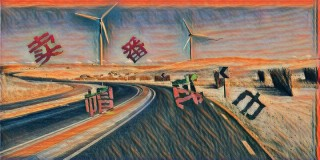卖: (20, 31, 67, 73)
巾: (225, 84, 272, 123)
帽: (78, 82, 119, 130)
番: (118, 33, 152, 67)
试: (163, 73, 214, 112)
